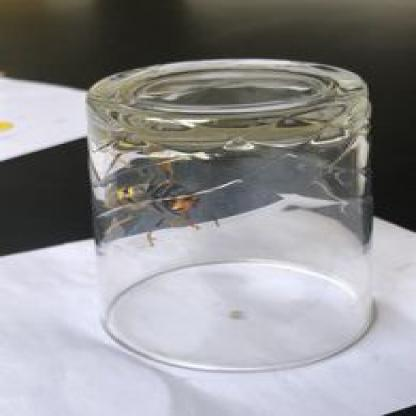Asian Hornet: (108, 162, 235, 237)
